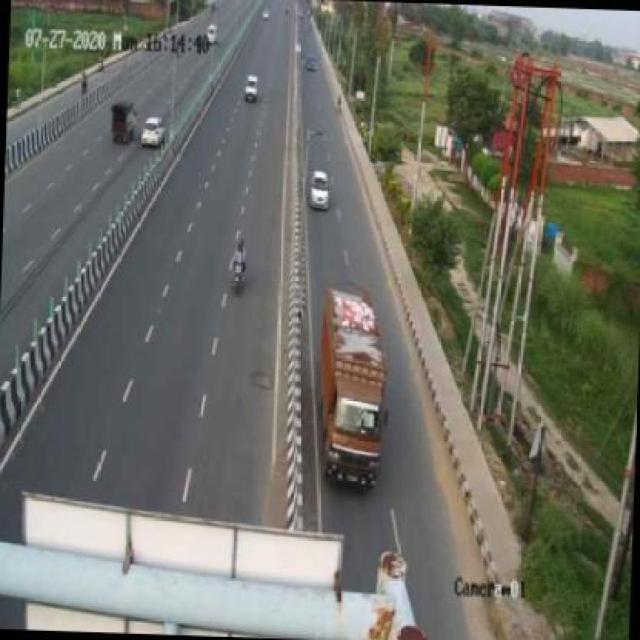car: (308, 168, 334, 217), (242, 69, 264, 111), (142, 115, 166, 148)
